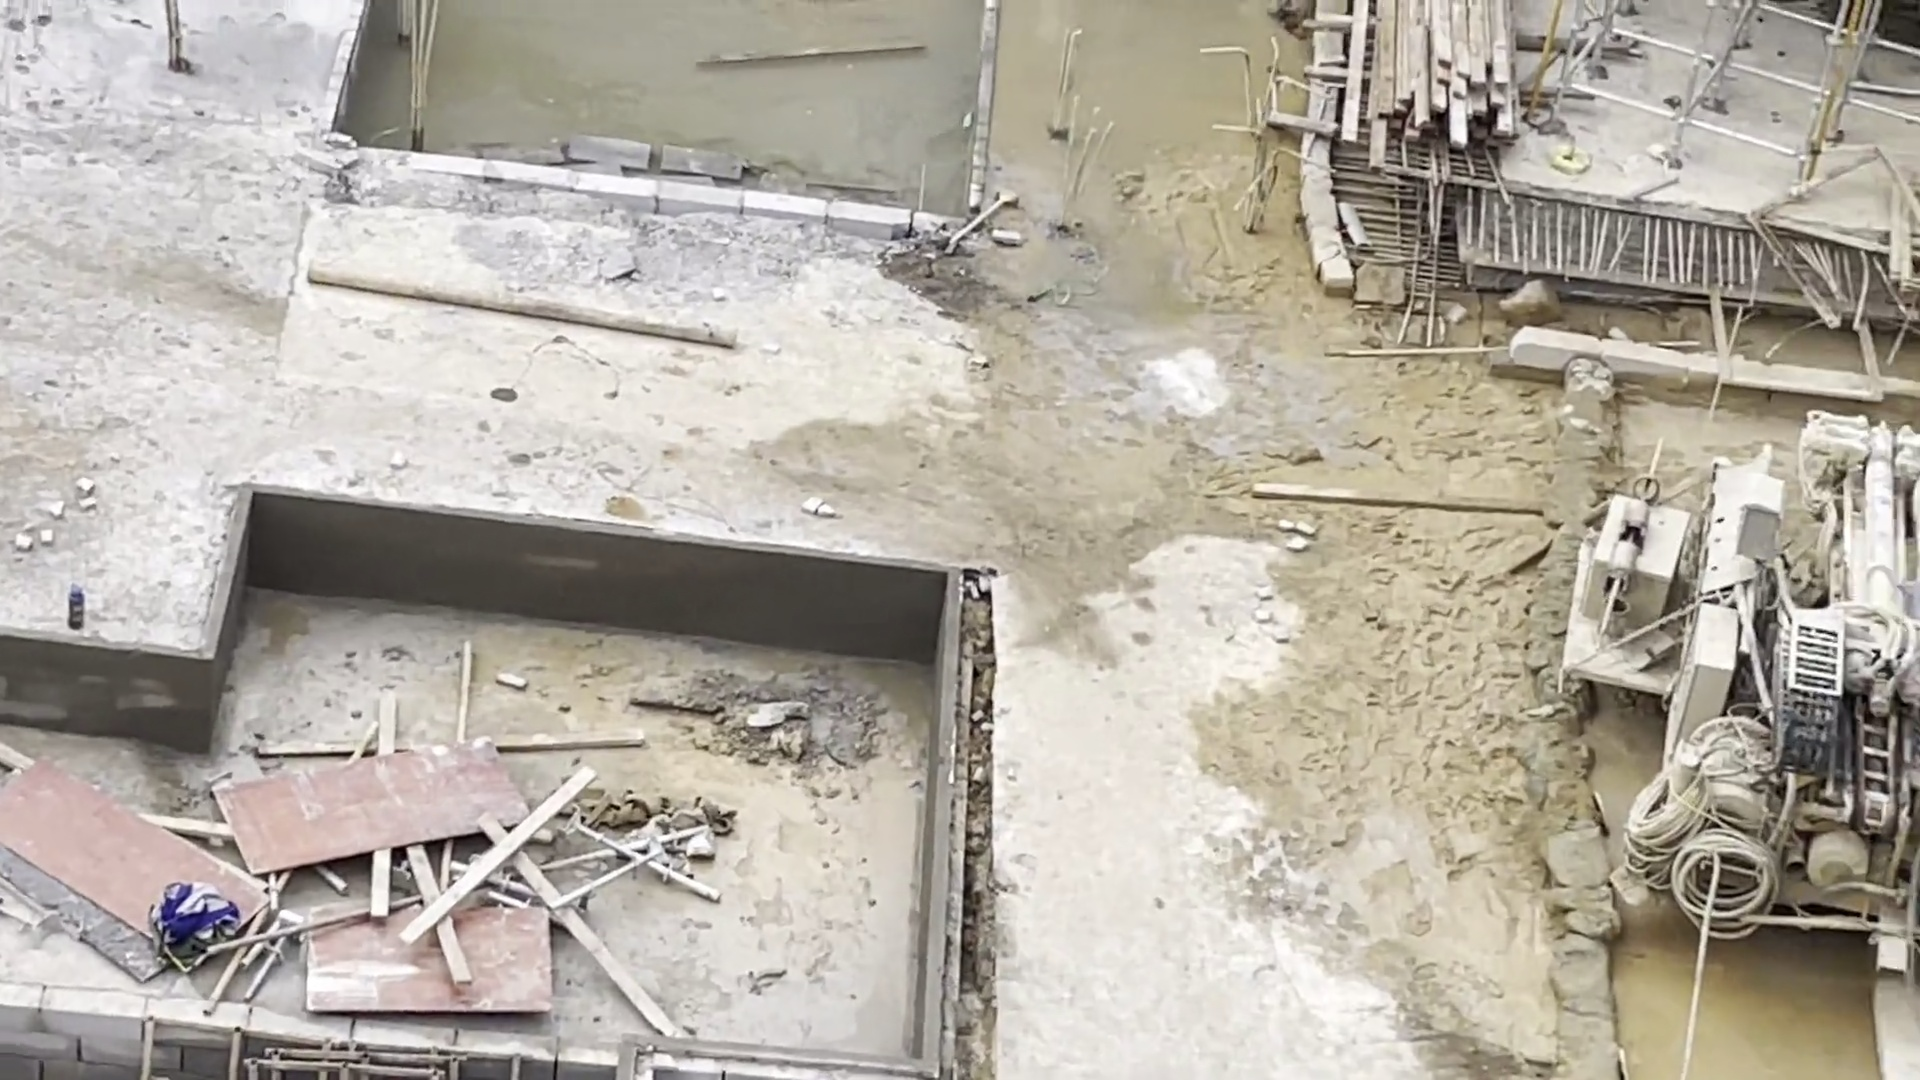wood: (1340, 1, 1511, 179)
